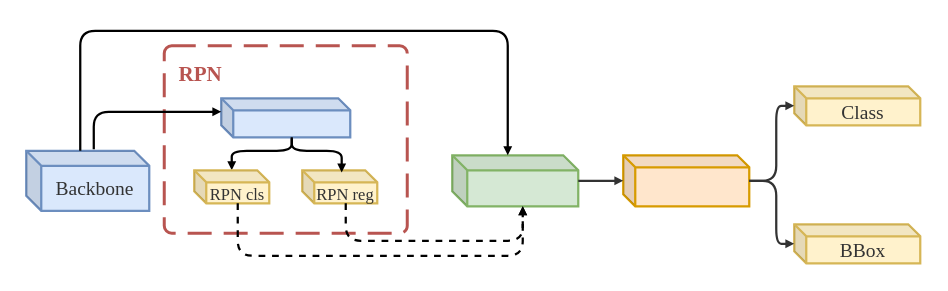
Image size: 948x291. Some labels were removed from this diagram. The shapes that lost their labels are listed below. From the top down, each one's centre as x and y in pixels, then its label:
At (285,117): "Conv".
At (514,180): "RoI Pool".
At (685,180): "FC Head".
